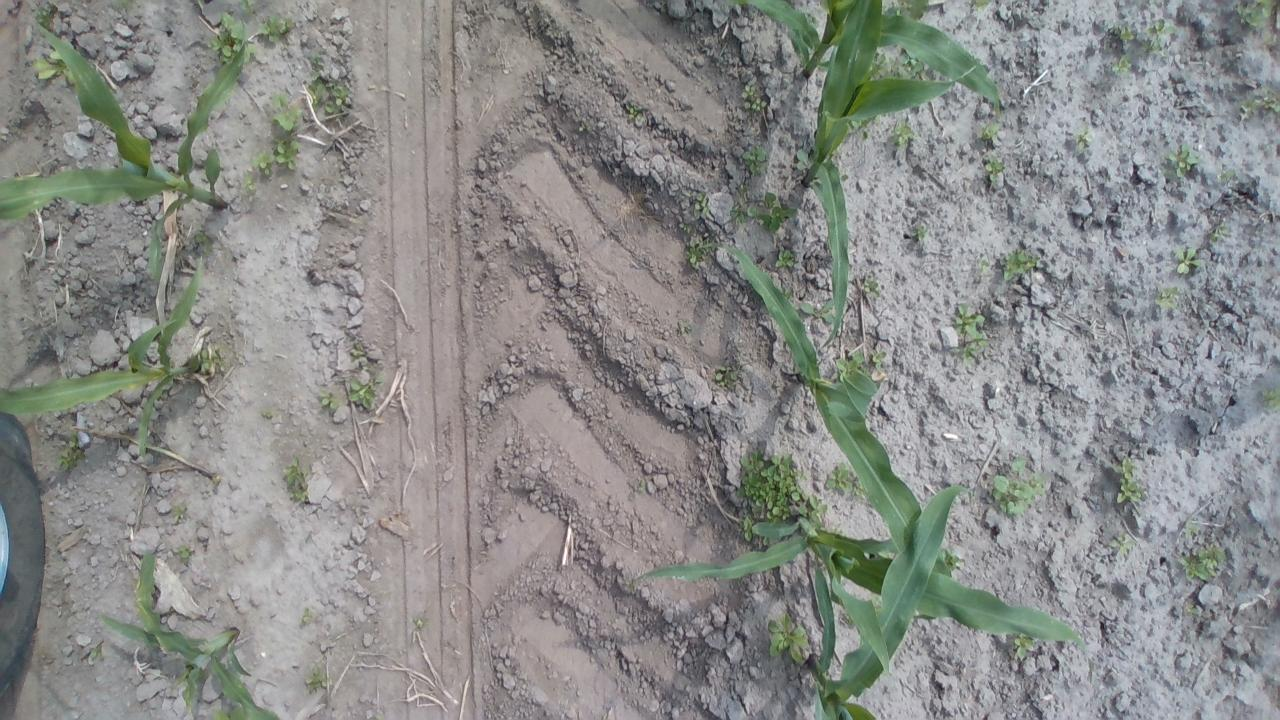Maize: (697, 243, 951, 619), (638, 513, 1088, 676), (1, 5, 248, 280), (802, 0, 978, 351), (0, 256, 202, 460), (809, 480, 970, 720), (92, 541, 280, 720), (726, 0, 1000, 118)
Weeds: (738, 447, 826, 522), (992, 454, 1046, 516), (946, 302, 988, 366), (765, 609, 807, 665), (746, 192, 800, 234), (1176, 542, 1228, 583), (1233, 80, 1280, 124), (208, 10, 244, 63), (304, 80, 352, 115), (1002, 246, 1042, 284), (349, 373, 386, 413), (1114, 456, 1144, 504), (1142, 18, 1178, 56), (1163, 142, 1200, 178), (268, 93, 302, 132), (1234, 0, 1276, 28), (1172, 245, 1208, 277), (257, 15, 296, 44), (282, 454, 306, 501), (58, 432, 84, 472), (34, 50, 65, 82), (824, 463, 854, 493), (274, 136, 300, 170), (728, 184, 748, 226), (740, 84, 770, 112), (801, 297, 832, 323), (200, 345, 226, 375), (304, 664, 329, 694), (984, 152, 1006, 185), (1109, 533, 1139, 557), (1154, 285, 1182, 310), (684, 239, 709, 267), (896, 53, 924, 78), (742, 143, 766, 172), (834, 351, 864, 374), (892, 119, 915, 149), (250, 150, 274, 178), (1204, 216, 1230, 241), (1108, 20, 1136, 42), (942, 545, 962, 573), (318, 385, 340, 410), (716, 365, 739, 388), (1074, 124, 1096, 148), (1013, 634, 1032, 660), (1113, 54, 1135, 76), (194, 228, 212, 254), (862, 275, 882, 298), (34, 5, 54, 28), (1261, 384, 1280, 408), (308, 52, 324, 80), (694, 192, 712, 216), (977, 120, 1000, 138), (795, 147, 812, 171), (870, 349, 889, 370), (909, 222, 930, 241), (1214, 166, 1235, 184), (622, 102, 641, 121), (875, 52, 890, 76), (242, 170, 257, 193), (170, 545, 188, 564), (410, 613, 430, 630), (1182, 519, 1198, 540), (776, 250, 794, 268), (742, 516, 754, 543), (234, 0, 254, 16), (974, 258, 992, 274), (676, 318, 692, 336), (628, 482, 644, 500), (172, 504, 187, 522), (110, 0, 134, 10), (90, 642, 103, 660), (300, 606, 312, 625), (1185, 602, 1201, 616), (972, 0, 992, 11), (677, 222, 695, 234), (348, 344, 366, 356), (859, 130, 874, 144), (624, 578, 637, 594), (245, 42, 255, 62), (65, 69, 75, 88), (577, 116, 588, 132), (1262, 34, 1276, 46), (873, 596, 884, 611), (261, 408, 274, 420), (872, 114, 882, 126), (844, 614, 853, 626), (784, 287, 793, 298), (840, 173, 849, 182), (894, 1, 909, 5), (762, 538, 769, 546)
